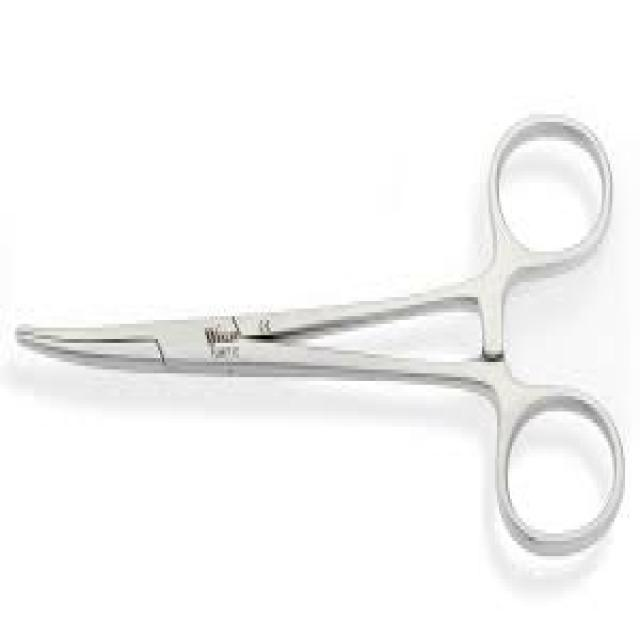Artery Forceps: (13, 101, 624, 564)
